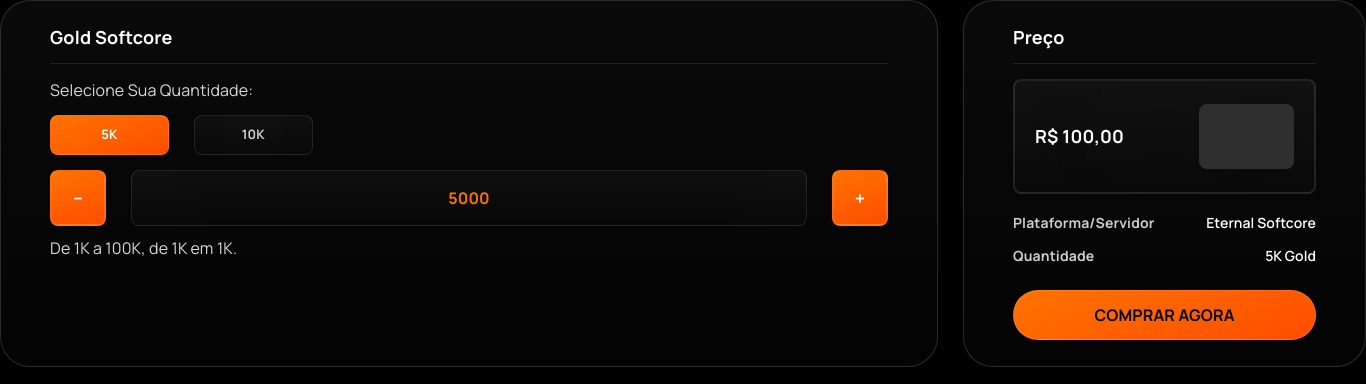
QuantityConfigurator › começa na primeira quantidade pronta e troca pelos botões
expect the text "R$ 100,00" is shown: met, box [1035,123,1124,150]
expect the text "5K Gold" is shown: met, box [1265,247,1316,265]
# 000 × R$ 0,02 — sem desconto por quantidade (2026-10-01), mesmo com faixa salva.
Click the button "10K" at (253, 135), box [194,115,313,155]
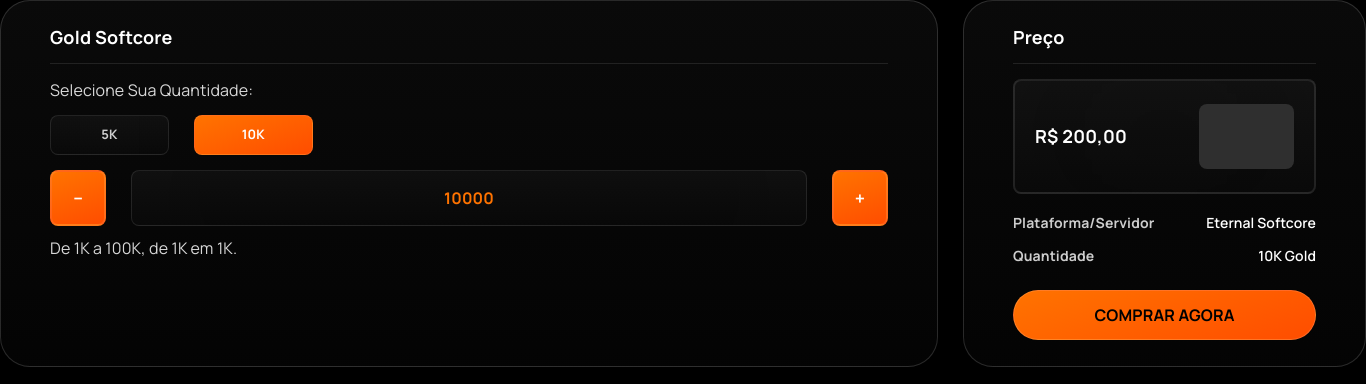
expect the text "R$ 200,00" is shown: met, box [1035,123,1127,150]
